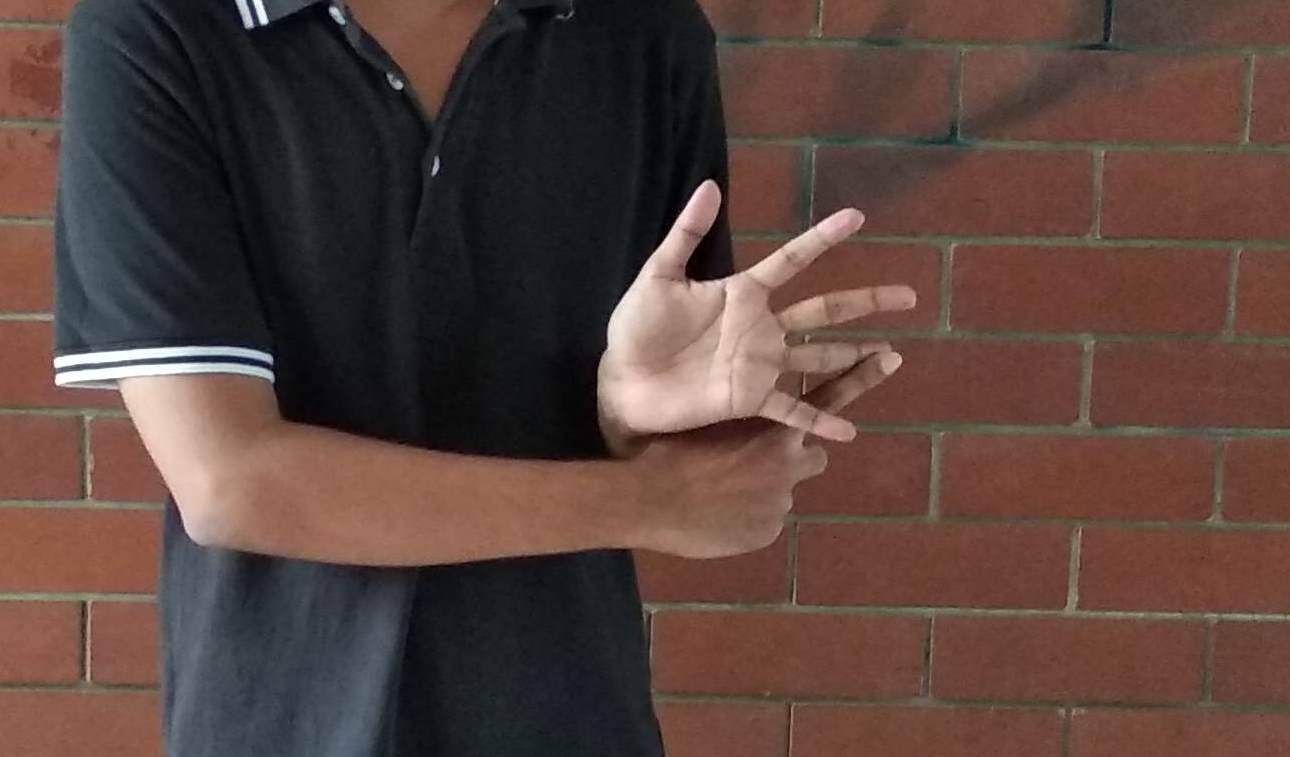e: (630, 196, 912, 537)
